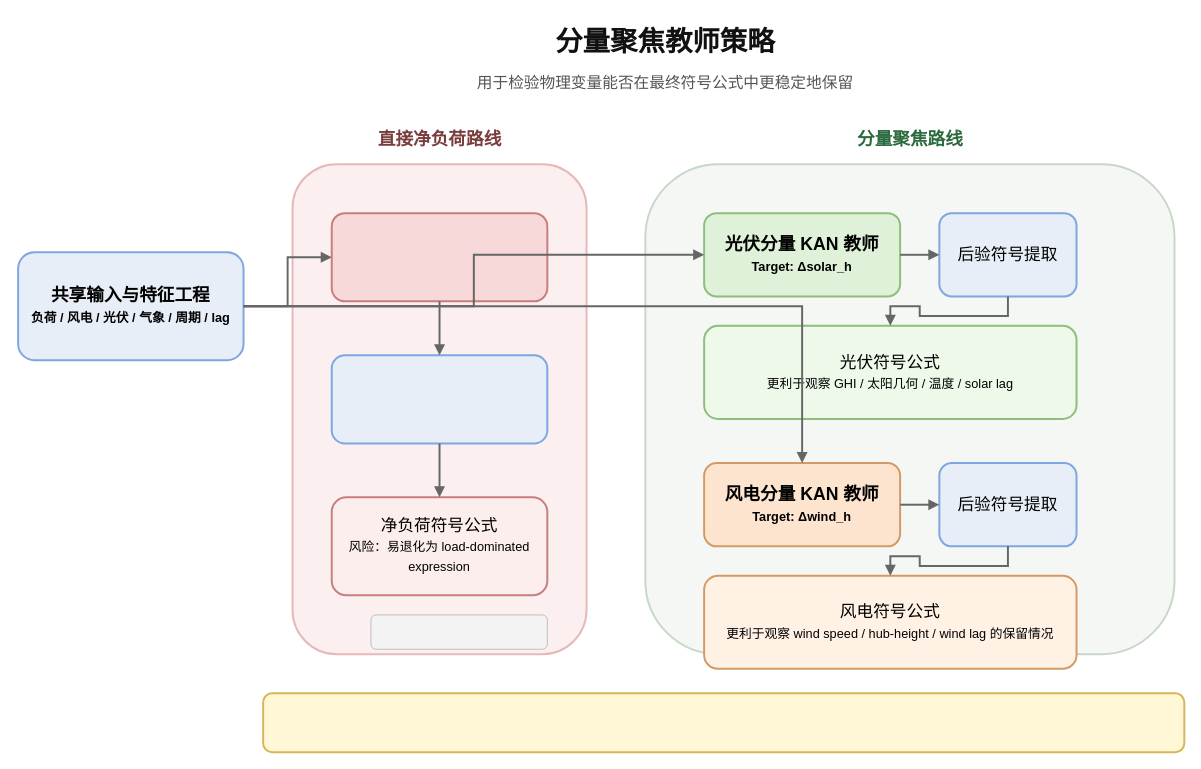
This 1201x769 diagram has some shape labels left out. The centre of each missing label's shape, as x and y in pixels:
"不是 teacher-student distillation，而是 KAN teacher + 后验符号提取" belongs at (x=458, y=631).
"关键点：分量教师不是从“净负荷教师”里分裂出来的子模型，而是针对不同目标分别训练的专用教师。" belongs at (x=723, y=722).
"后验符号提取 suggest_symbolic / fix_symbolic" belongs at (x=439, y=399).
"直接净负荷 KAN 教师 Target: Δnet_load_h" belongs at (x=439, y=257).
